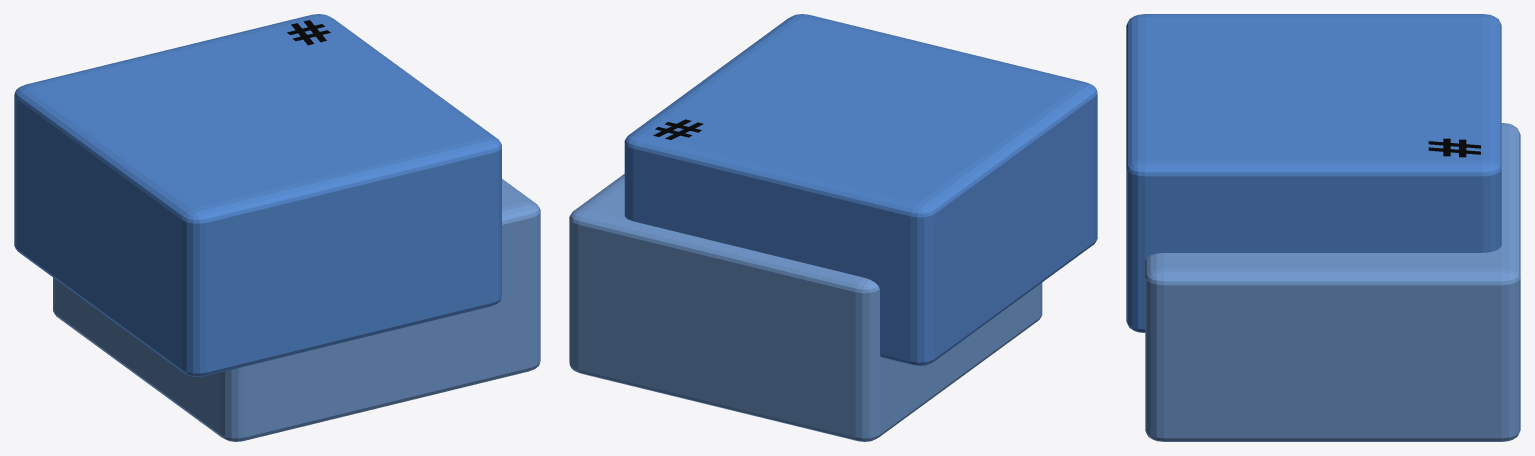
The model's file is Sub_Hashtag.dae.
3 renders of one model, left to right at view 1: azimuth 30°, elevation 25°; view 2: azimuth 150°, elevation 25°; view 3: azimuth 270°, elevation 25°, orthographic. The views are drawn at different scales.
Visible parts, largest first — view 1: Cube, Plane; view 2: Cube, Plane; view 3: Cube, Plane.
Boxes of the visible parts, x1,y1,x2,y2 form: Cube: (14, 14, 540, 441); Plane: (287, 20, 330, 45); Cube: (569, 14, 1097, 441); Plane: (653, 119, 703, 139); Cube: (1126, 14, 1520, 441); Plane: (1428, 138, 1480, 157).
Bounding box in the file's own units: 2.3 × 2.1 × 1.5.
Materials: 3 (1 with a texture image).
